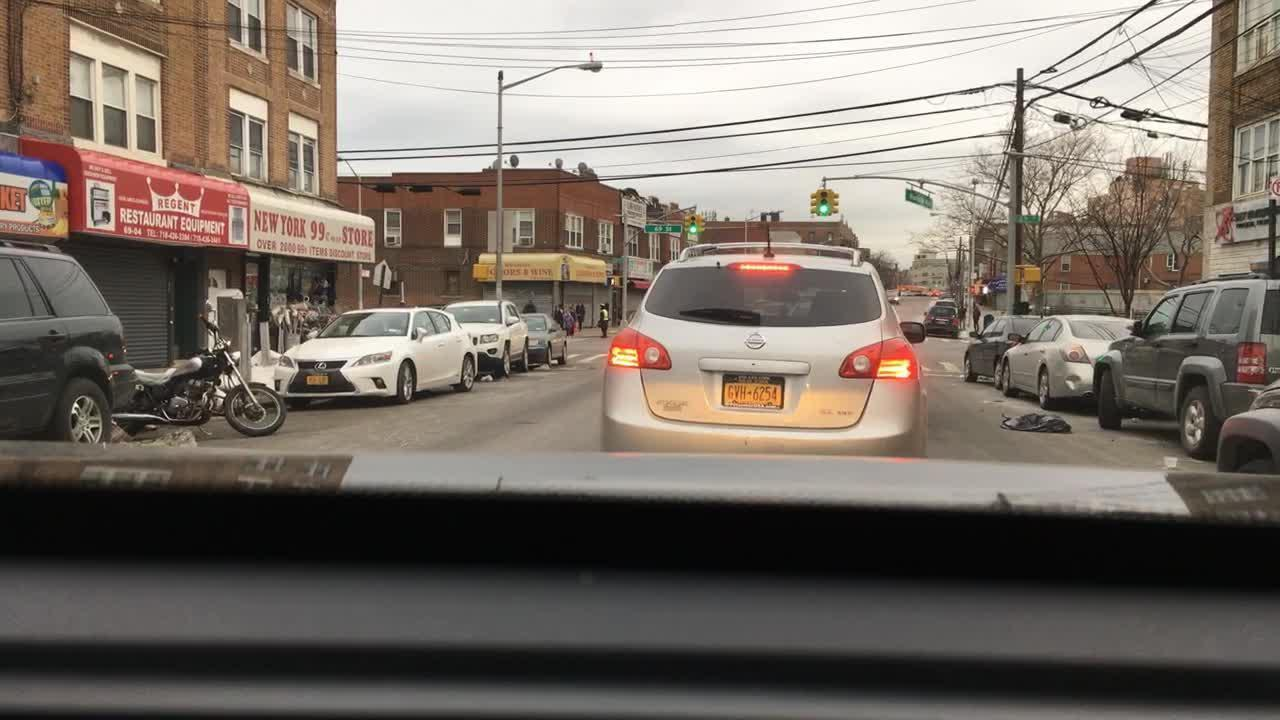lexus: (310, 356, 336, 374)
